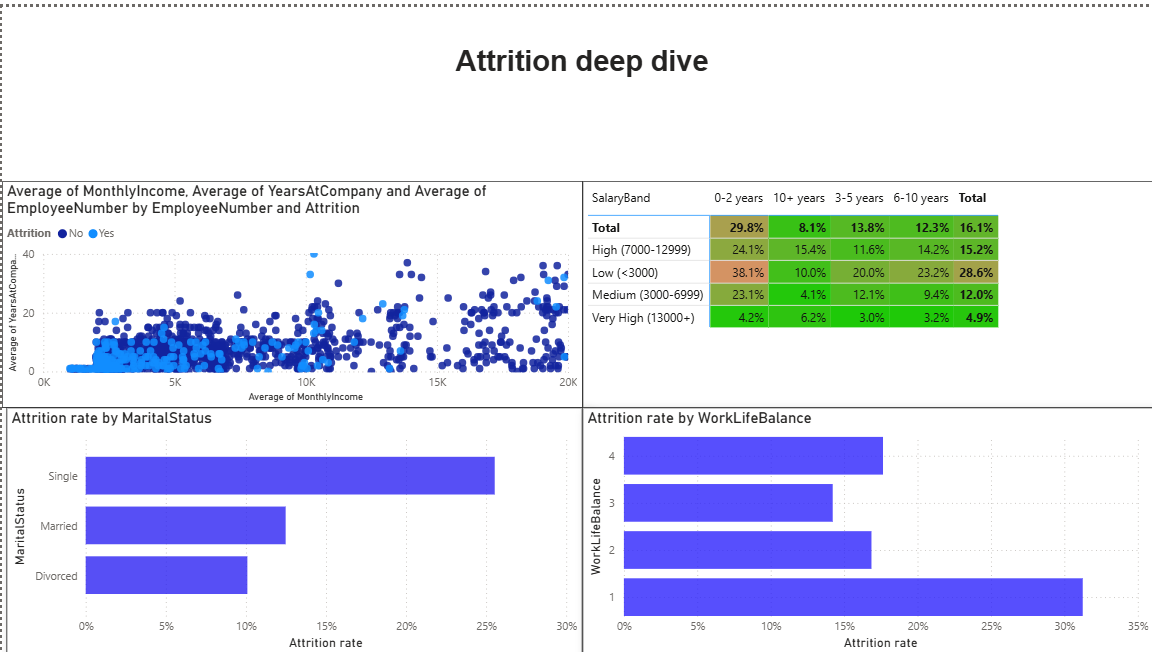

The dashboard page shown, as its layout file describes it:
{"tool":"powerbi","page":{"name":"Page 2","canvas":[1280,720],"ordinal":1},"visuals":[{"type":"pivotTable","fields":{"Values":["hr_employee_attrition.Attrition rate"],"Rows":["hr_employee_attrition.SalaryBand"],"Columns":["hr_employee_attrition.TenureBand"]},"box":[645,193.3,635,251.7],"z":0},{"type":"clusteredBarChart","fields":{"Category":["hr_employee_attrition.MaritalStatus"],"Y":["hr_employee_attrition.Attrition rate"]},"box":[5,445,640,275],"z":1000},{"type":"clusteredBarChart","fields":{"Category":["hr_employee_attrition.WorkLifeBalance"],"Y":["hr_employee_attrition.Attrition rate"]},"box":[645,445,635,275],"z":2000},{"type":"scatterChart","fields":{"X":["Avg(hr_employee_attrition.MonthlyIncome)"],"Y":["Avg(hr_employee_attrition.YearsAtCompany)"],"Series":["hr_employee_attrition.Attrition"],"Category":["hr_employee_attrition.EmployeeNumber"]},"box":[0,193.3,645,251.7],"z":3000},{"type":"textbox","box":[0,0,1280,193.3],"z":4000}]}

Visuals, with their boxes in screenshot pixels (x1, y1, x2, y2), scaled from the page's 1280x720 canvas onto the 1152x652 screenshot:
pivotTable - hr_employee_attrition.Attrition rate x hr_employee_attrition.SalaryBand: rect(580, 175, 1151, 403)
clusteredBarChart - hr_employee_attrition.MaritalStatus x hr_employee_attrition.Attrition rate: rect(4, 403, 580, 651)
clusteredBarChart - hr_employee_attrition.WorkLifeBalance x hr_employee_attrition.Attrition rate: rect(580, 403, 1151, 651)
scatterChart - Avg(hr_employee_attrition.MonthlyIncome) x Avg(hr_employee_attrition.YearsAtCompany): rect(0, 175, 580, 403)
textbox: rect(0, 0, 1151, 175)
